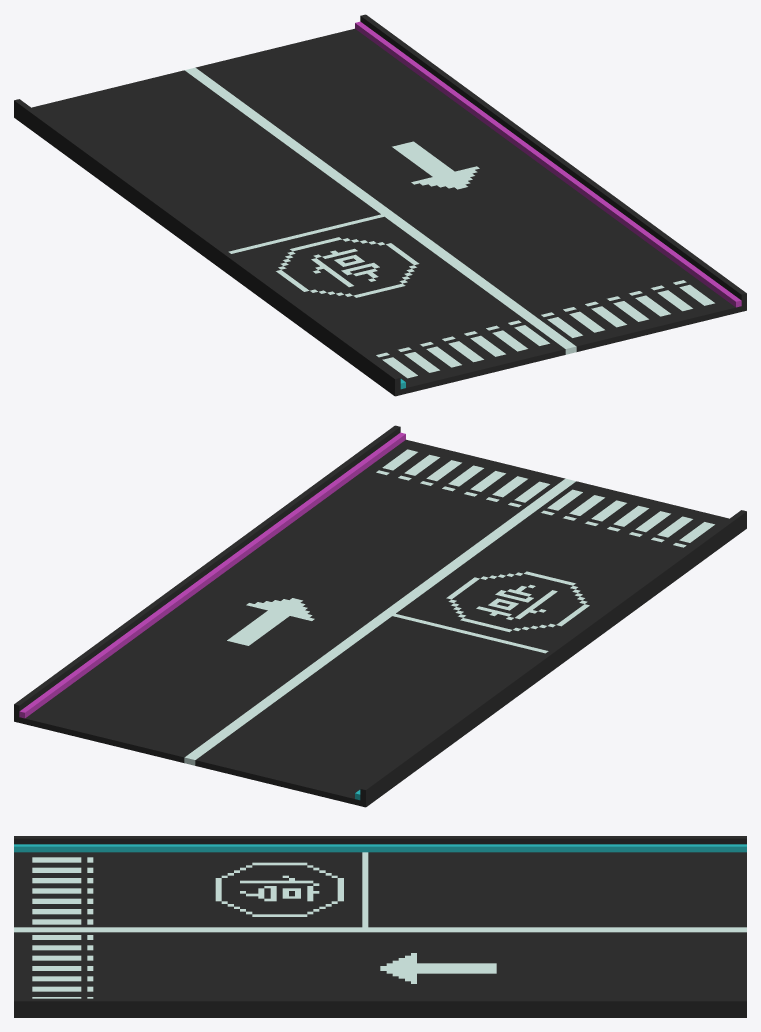
File: SM_Road_1.fbx
3 views of the same model, one above another, from view 1: azimuth 30°, elevation 25°; view 2: azimuth 150°, elevation 25°; view 3: azimuth 270°, elevation 25° (orthographic). The views are drawn at different scales.
Parts seen in each view (by area): view 1: SM_Road_1; view 2: SM_Road_1; view 3: SM_Road_1.
Part boxes in pixels (box(x1,y1,x2,y2)): SM_Road_1: box(14, 14, 746, 396); SM_Road_1: box(14, 425, 746, 807); SM_Road_1: box(14, 836, 746, 1017).
Bounding box in the file's own units: 1280 × 60 × 2400.
Materials: 3 (1 with a texture image).
